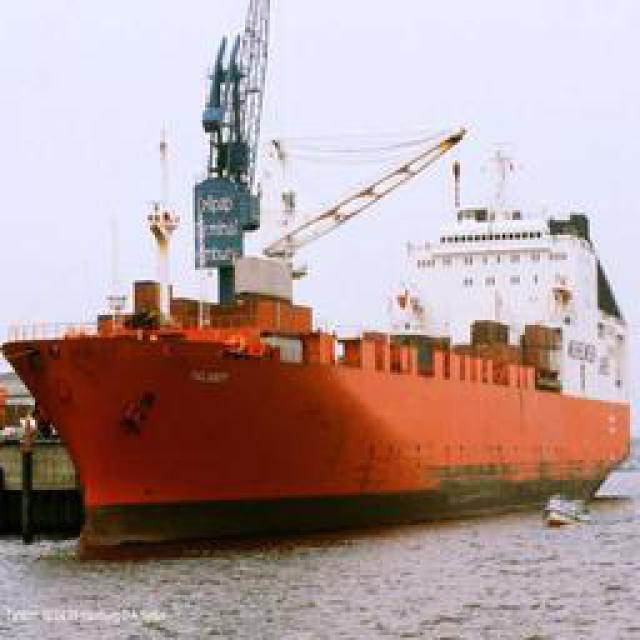Ship: (15, 169, 633, 544)
